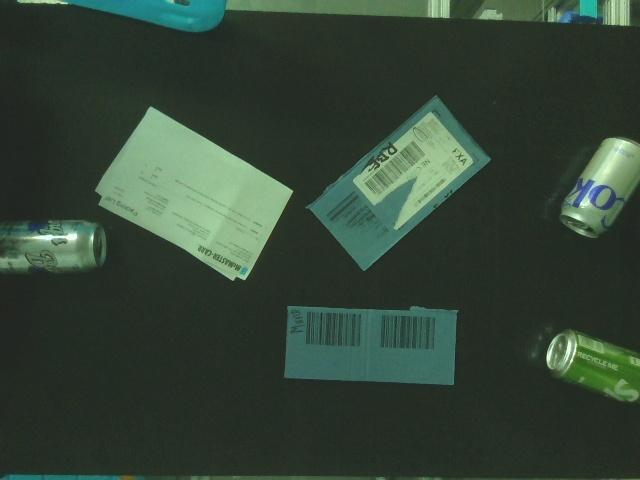cardboard: (300, 89, 494, 274), (281, 300, 459, 391)
metal: (556, 131, 640, 243), (541, 323, 640, 411), (0, 215, 108, 282)
paper: (88, 104, 298, 287)
